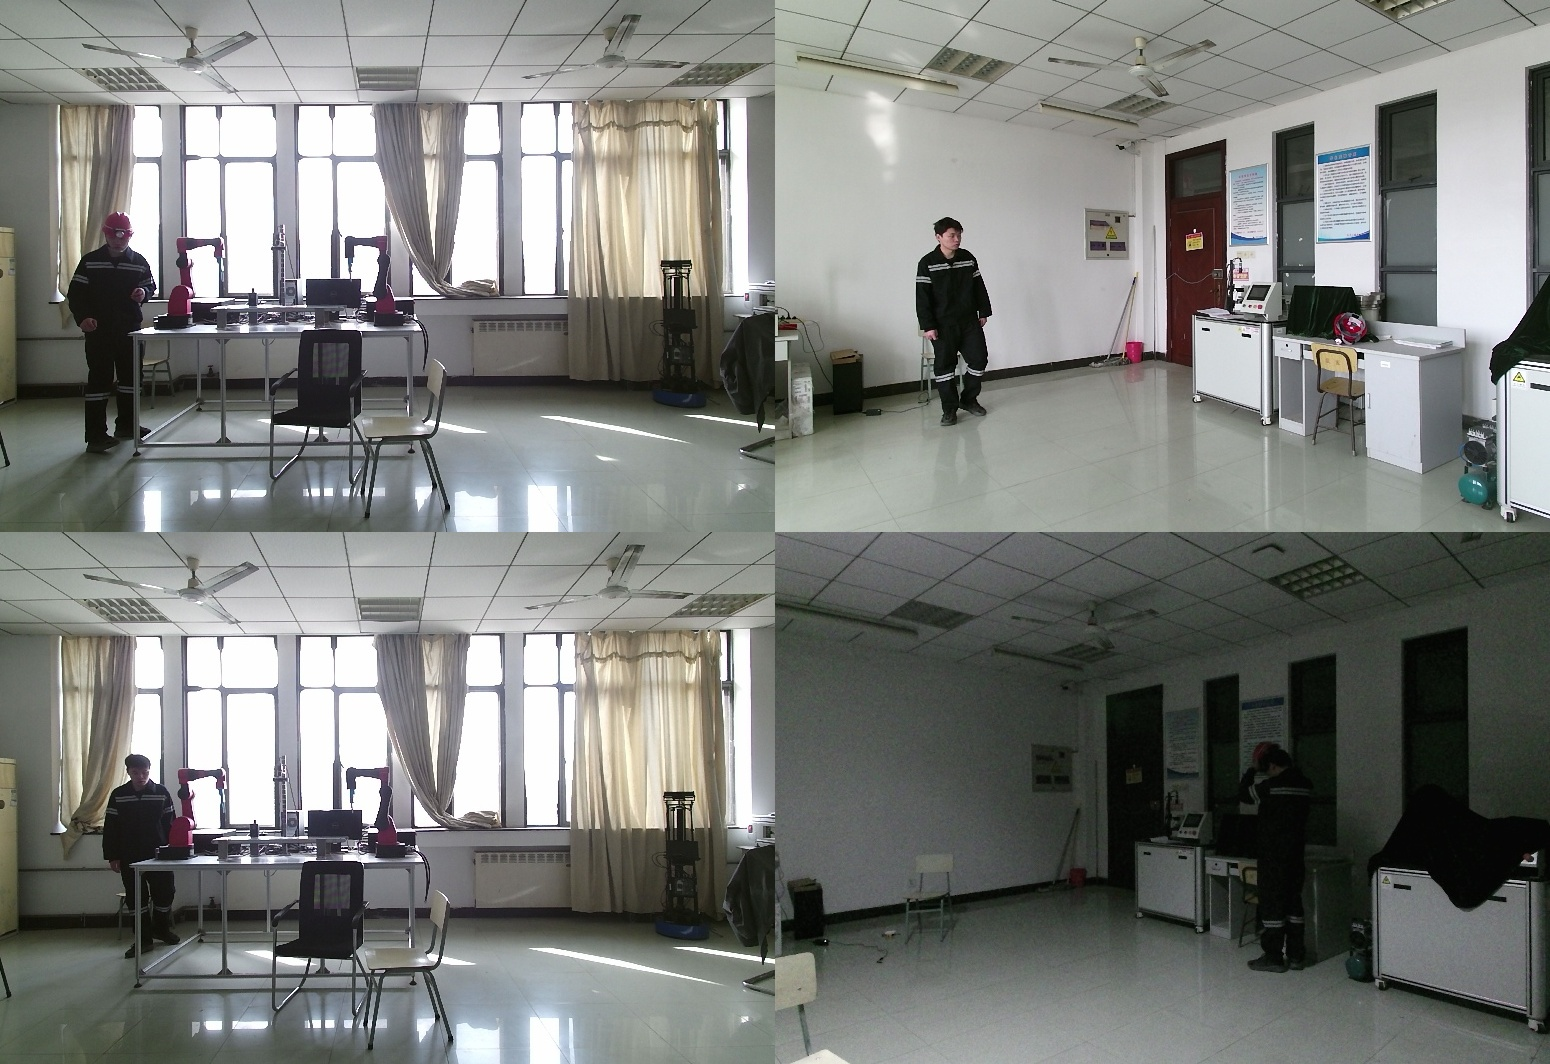person: (61, 212, 159, 452), (1237, 739, 1333, 971), (908, 217, 1002, 429), (96, 754, 185, 957)
